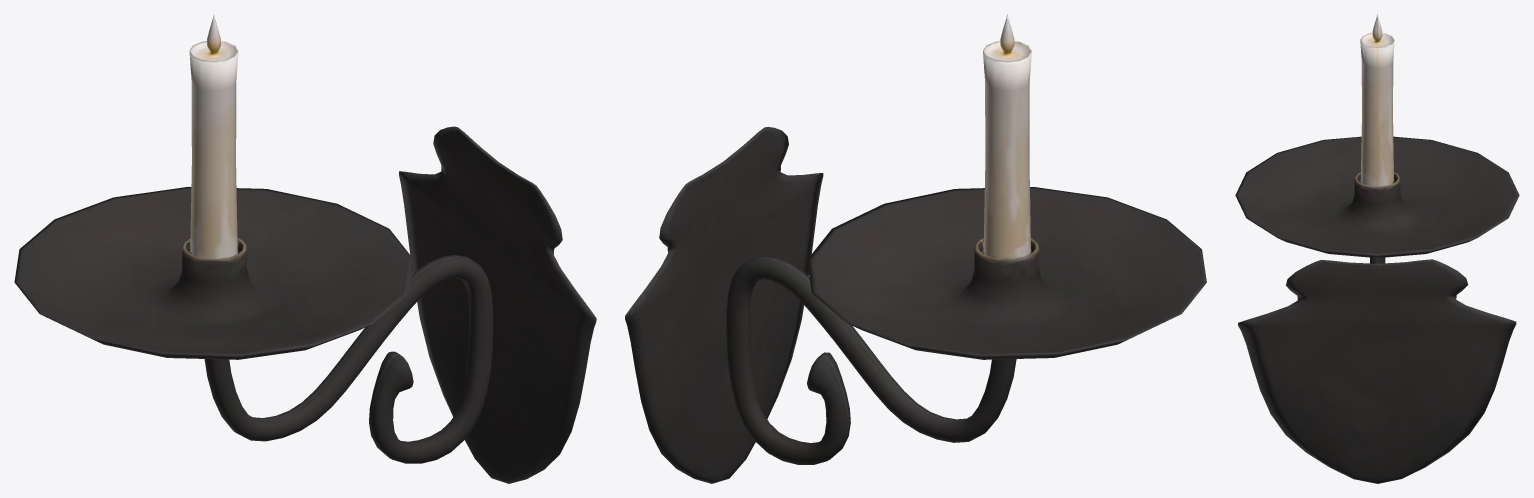
Rendered from sconce1.glb.
3 renders of one model, left to right at view 1: azimuth 30°, elevation 25°; view 2: azimuth 150°, elevation 25°; view 3: azimuth 270°, elevation 25°, orthographic. The views are drawn at different scales.
Parts seen in each view (by area): view 1: Object_4; view 2: Object_4; view 3: Object_4.
Boxes of the visible parts, box(x1,y1,x2,y2) form: Object_4: box(14, 15, 596, 483); Object_4: box(625, 14, 1206, 483); Object_4: box(1235, 14, 1519, 483).
Bounding box in the file's own units: 2.38 × 2.62 × 1.8.
1 material, 1 textured.
